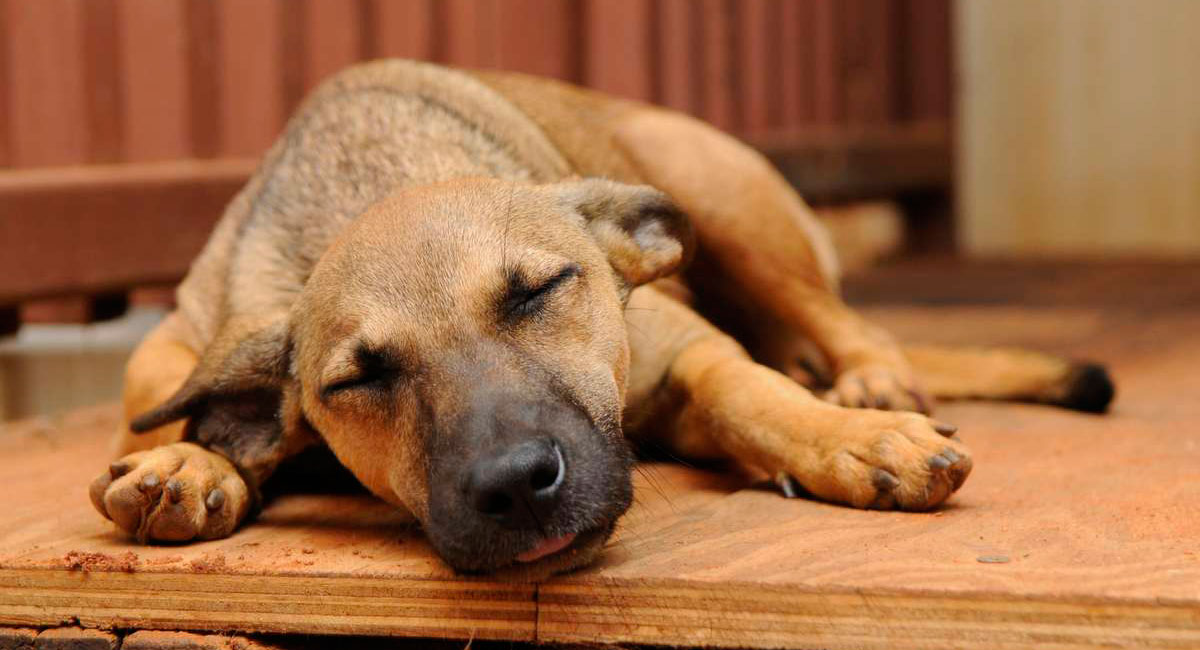dog: (119, 64, 1061, 562)
